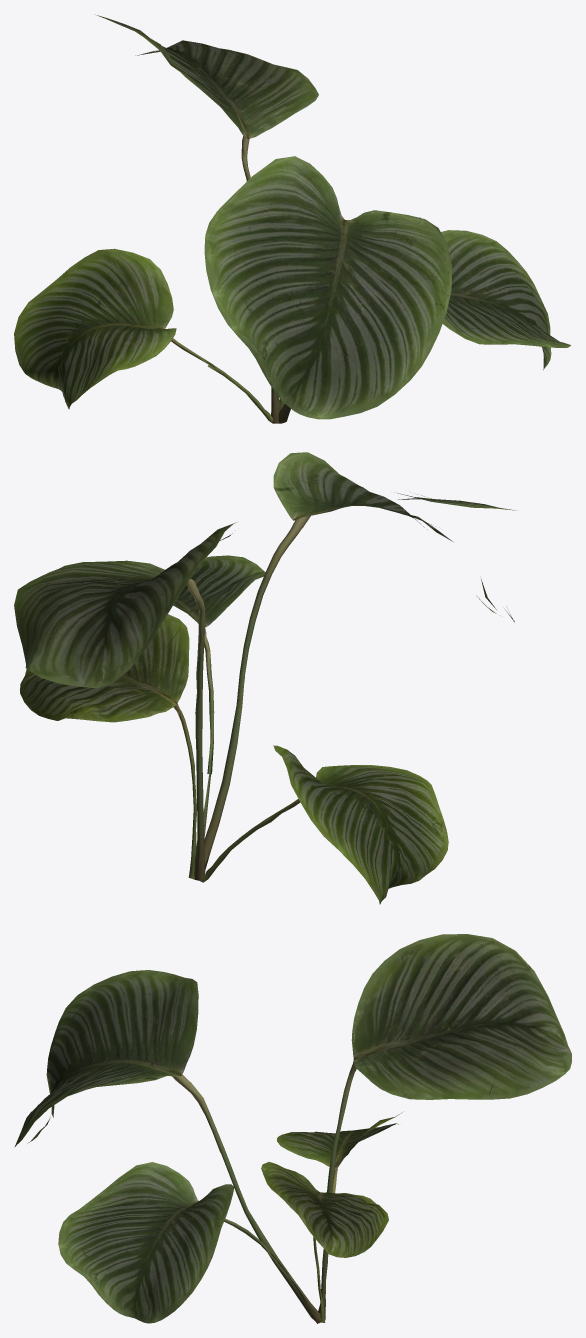
The model's file is calathea_1.glb.
The picture shows the model from 3 angles, top to bottom: view 1: azimuth 30°, elevation 25°; view 2: azimuth 150°, elevation 25°; view 3: azimuth 270°, elevation 25°; orthographic projection. The views are drawn at different scales.
Parts seen in each view (by area): view 1: calathea; view 2: calathea; view 3: calathea.
Part boxes in pixels (left/top/right/bottom): calathea: left=14, top=14, right=570, bottom=423; calathea: left=14, top=452, right=516, bottom=904; calathea: left=14, top=934, right=571, bottom=1323.
Bounding box in the file's own units: 0.3474 × 0.3022 × 0.4403.
1 material, 1 textured.
